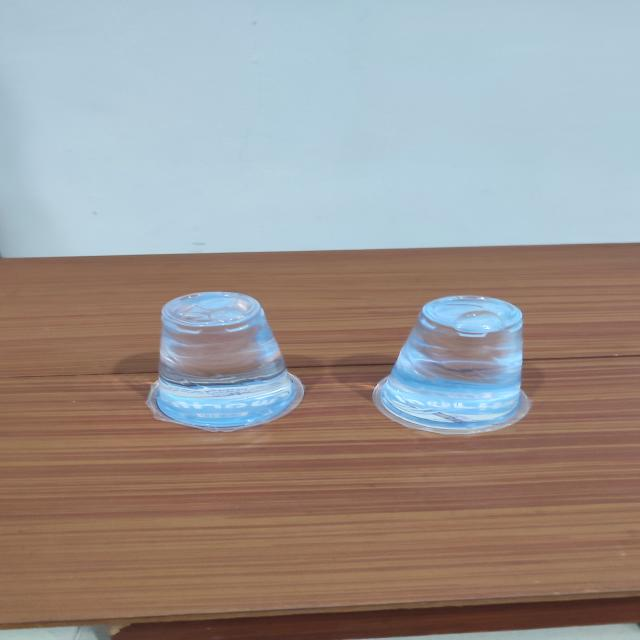air gelas: (369, 292, 538, 440), (148, 293, 317, 435)
